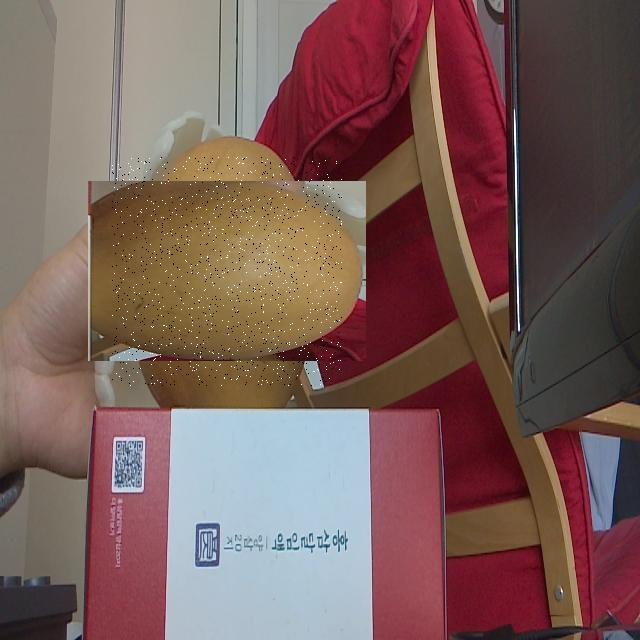pear: (112, 157, 342, 386)
